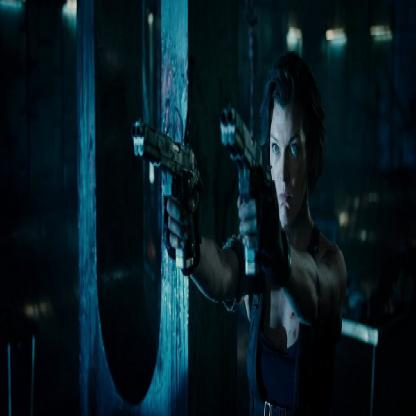Guns: (130, 113, 198, 281), (217, 102, 266, 287)
